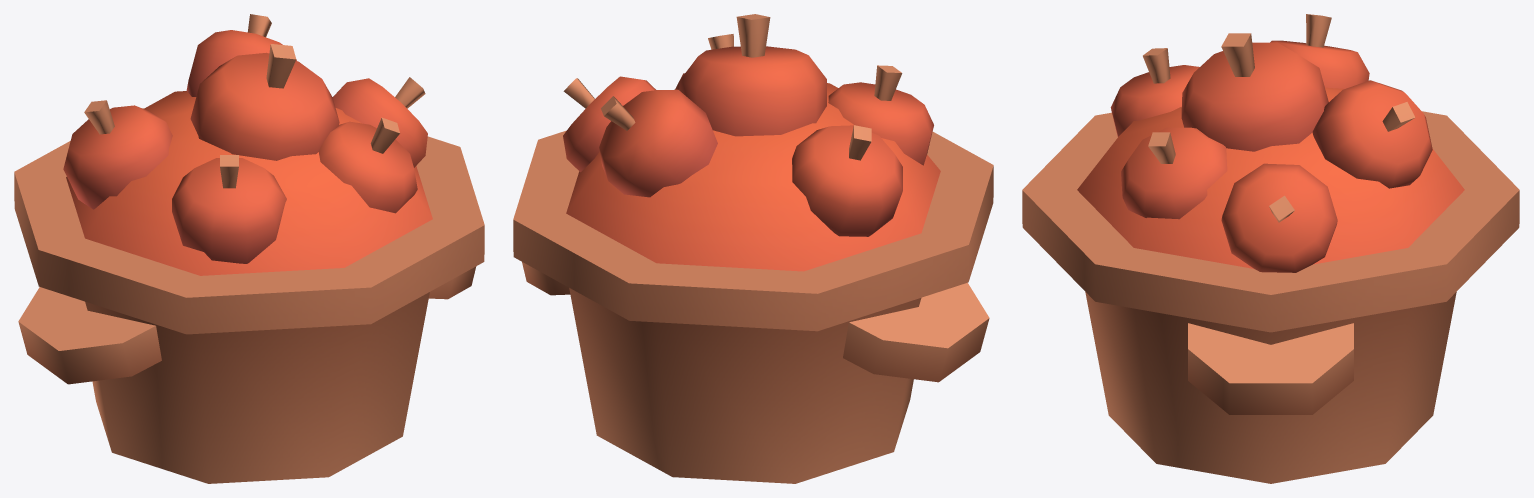
Rendered from display-fruit.obj.
3 views of the same model, side by side, from view 1: azimuth 30°, elevation 25°; view 2: azimuth 150°, elevation 25°; view 3: azimuth 270°, elevation 25° (orthographic). The views are drawn at different scales.
Visible parts, largest first — view 1: display-fruit; view 2: display-fruit; view 3: display-fruit.
Part boxes in pixels (x1,y1,x2,y2): display-fruit: (14, 14, 484, 483); display-fruit: (513, 14, 993, 483); display-fruit: (1022, 14, 1519, 483).
Size of the model in its own units: 0.6 by 0.516 by 0.6.
1 material, 1 textured.
